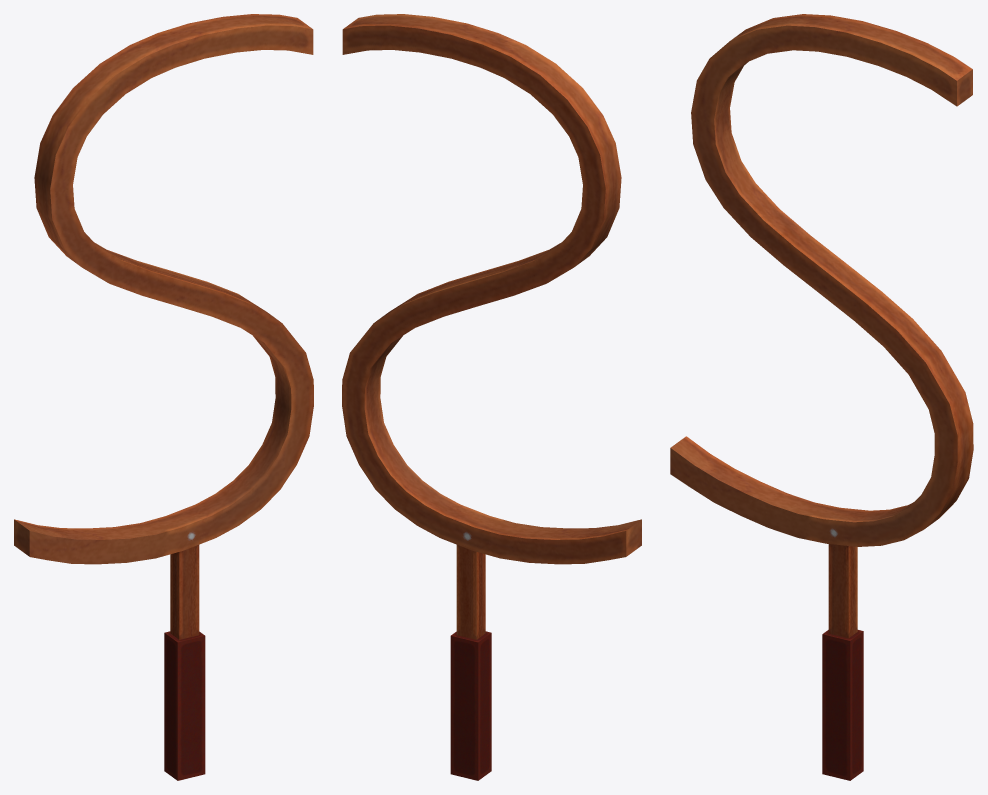
File: sTextLeg.glb
3 renders of one model, left to right at view 1: azimuth 30°, elevation 25°; view 2: azimuth 150°, elevation 25°; view 3: azimuth 330°, elevation 25°, orthographic.
Parts seen in each view (by area): view 1: Khung chu S; view 2: Khung chu S; view 3: Khung chu S.
Part boxes in pixels (x1,y1,x2,y2): Khung chu S: (14,14,313,780); Khung chu S: (342,14,641,780); Khung chu S: (670,14,973,780).
Size of the model in its own units: 1.36 by 3.39 by 0.1304.
1 material, 1 textured.
